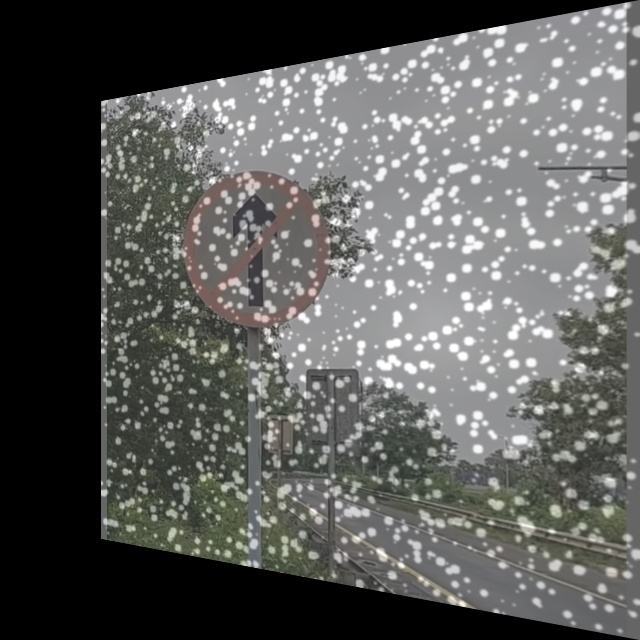No_Entry: (183, 166, 329, 326)
